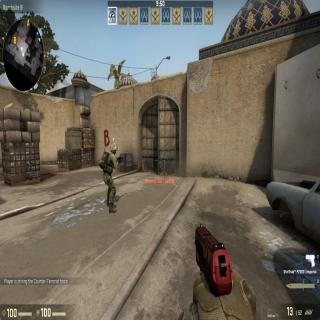CT-Body: (100, 142, 120, 213)
CT-Head: (108, 140, 119, 159)
